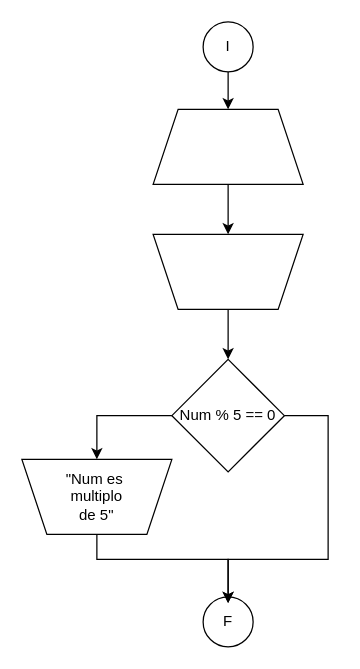
This 360x669 diagram has some shape labels left out. The centre of each missing label's shape, as x and y in pixels:
"Ingrese un numero": (227,146)
Num: (227,271)
